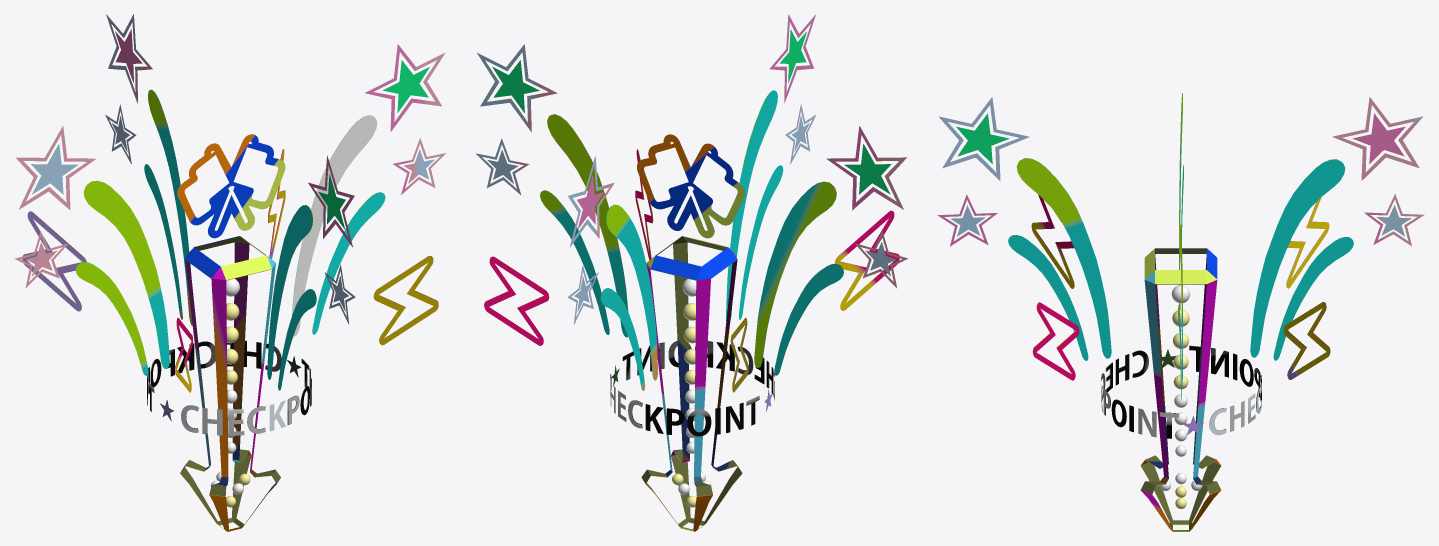
Rendered from Holo Checkpoint_002.fbx.
The picture shows the model from 3 angles, left to right: view 1: azimuth 30°, elevation 25°; view 2: azimuth 150°, elevation 25°; view 3: azimuth 270°, elevation 25°; orthographic projection. The views are drawn at different scales.
Visible parts, largest first — view 1: polySurface14, polySurface3; view 2: polySurface14, polySurface3; view 3: polySurface14, polySurface3.
Boxes of the visible parts, left/top/right/bottom form: polySurface14: left=14, top=14, right=445, bottom=531; polySurface3: left=147, top=236, right=311, bottom=529; polySurface14: left=476, top=14, right=907, bottom=531; polySurface3: left=610, top=236, right=774, bottom=529; polySurface14: left=937, top=93, right=1424, bottom=531; polySurface3: left=1101, top=248, right=1261, bottom=530.
Bounding box in the file's own units: 18.8 × 18.39 × 18.8.
